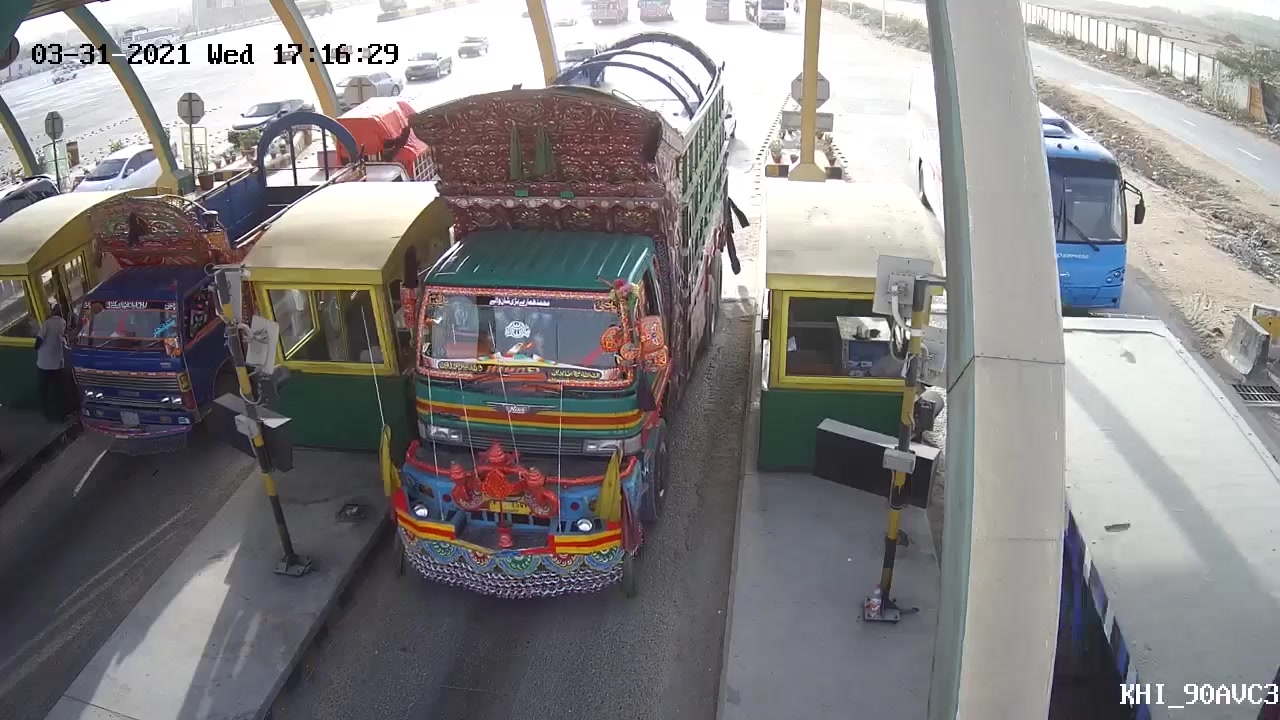F5: (392, 42, 740, 611)
